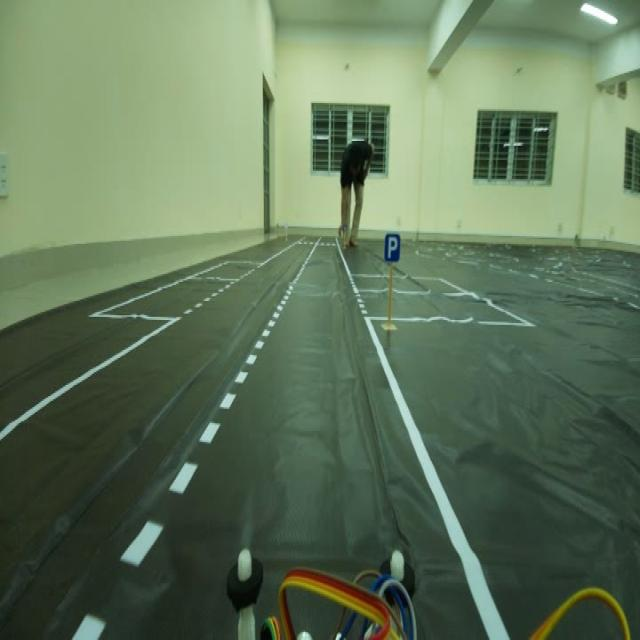parking: (382, 221, 404, 270)
